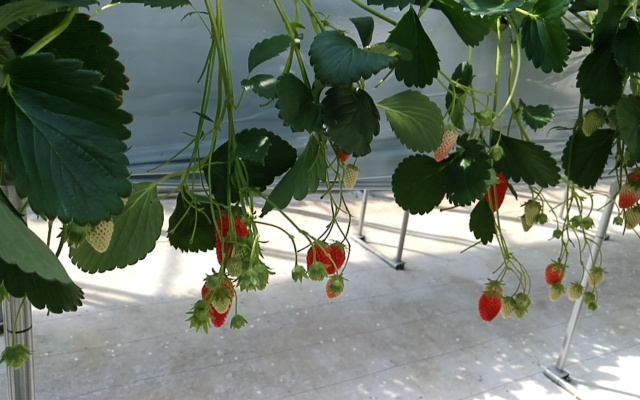GreenStrawberry: (82, 213, 118, 256), (430, 121, 458, 165), (582, 107, 609, 138), (229, 247, 253, 280), (521, 198, 541, 233), (619, 179, 640, 209), (325, 274, 346, 299), (341, 163, 359, 192), (211, 287, 230, 313), (621, 206, 640, 231), (497, 294, 515, 318), (589, 266, 607, 289), (546, 284, 564, 303), (567, 282, 583, 302)
MatureStrawberry: (214, 211, 250, 269), (202, 274, 233, 328), (305, 237, 330, 282), (483, 171, 508, 213), (476, 289, 502, 325), (326, 239, 346, 277), (544, 261, 567, 286)
